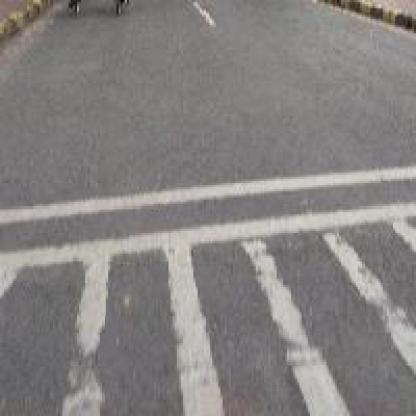Speed Bump: (2, 160, 412, 412)
